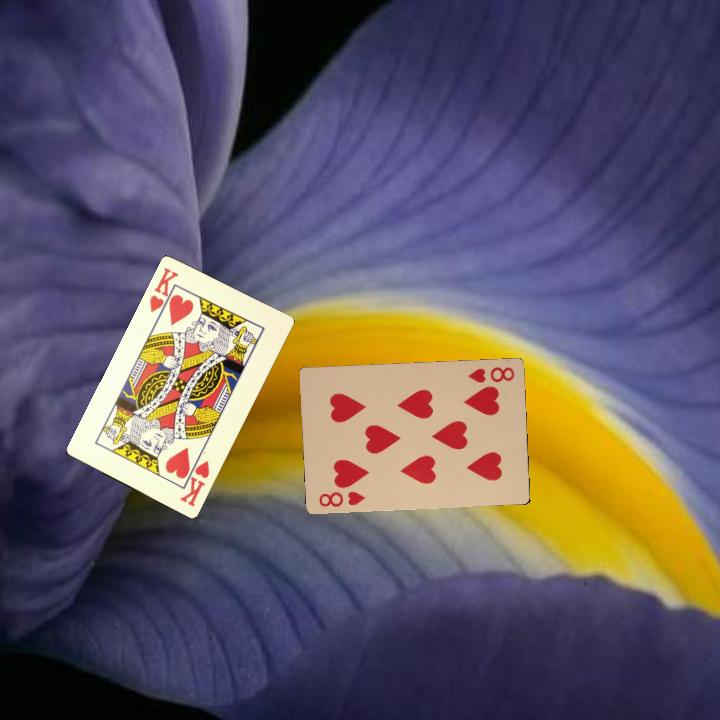8h: (315, 487, 366, 510), (464, 363, 517, 385)
Kh: (176, 452, 212, 509), (145, 263, 181, 319)
